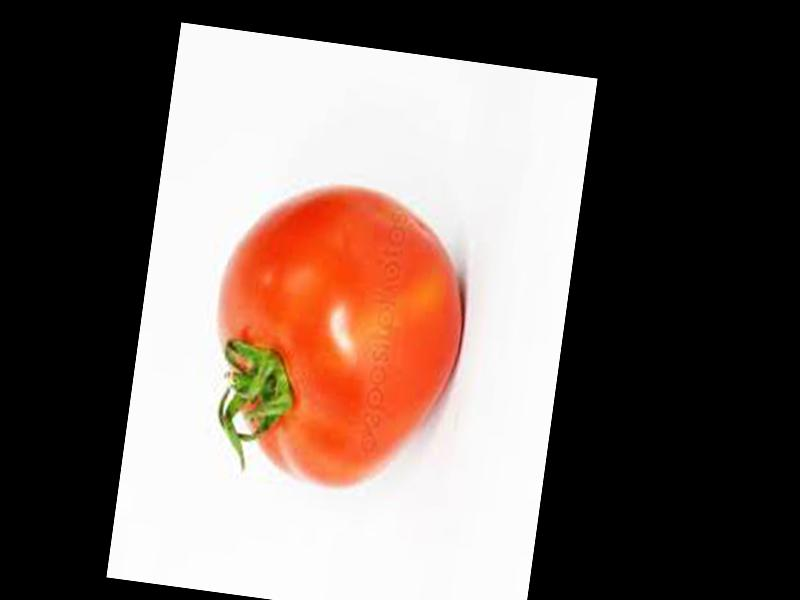Tomato: (192, 171, 478, 501)
